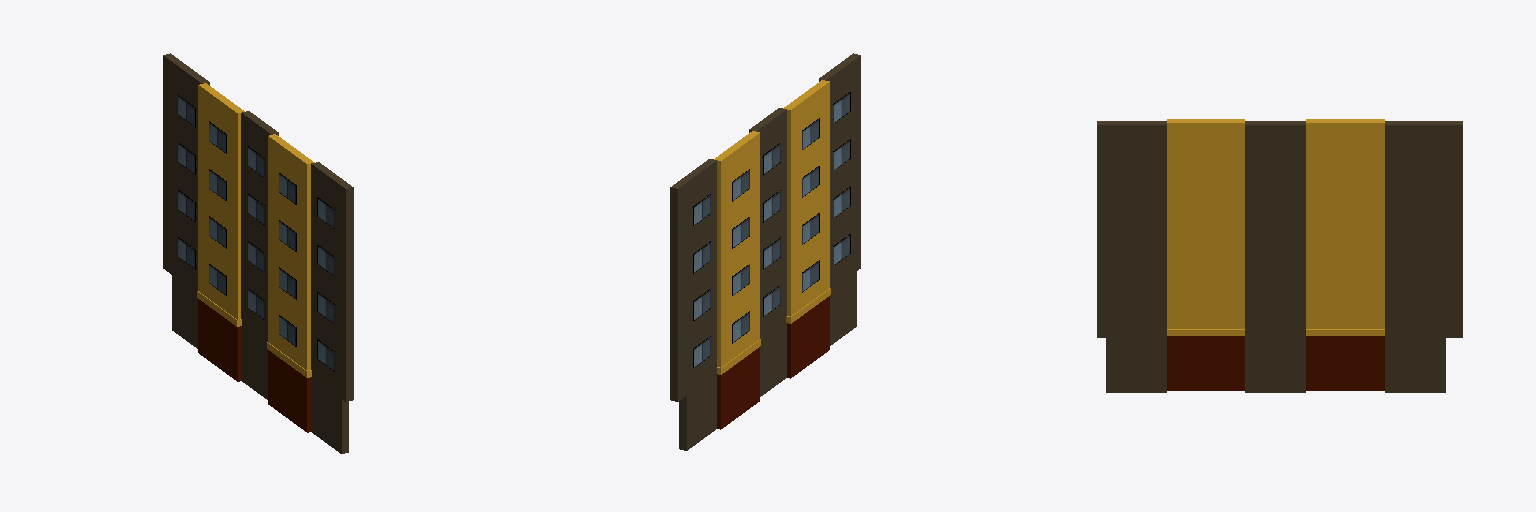
3 renders of one model, left to right at view 1: azimuth 30°, elevation 25°; view 2: azimuth 150°, elevation 25°; view 3: azimuth 270°, elevation 25°, orthographic.
Parts seen in each view (by area): view 1: Part10, Part19, Part40, Part52, Part31, Part11, Part32, Part1, Part22, Part43; view 2: Part52, Part19, Part40, Part10, Part31, Part32, Part11, Part43, Part1, Part22; view 3: Part52, Part40, Part19, Part10, Part31, Part32, Part11, Part1, Part22, Part43, Part33, Part12.
Part boxes in pixels (bbox=[...]): Part10: bbox=[311, 162, 353, 401]; Part19: bbox=[268, 134, 314, 370]; Part40: bbox=[198, 83, 244, 319]; Part52: bbox=[163, 53, 209, 292]; Part31: bbox=[241, 111, 278, 343]; Part11: bbox=[268, 350, 310, 432]; Part32: bbox=[198, 299, 240, 381]; Part1: bbox=[311, 377, 348, 453]; Part22: bbox=[241, 326, 267, 399]; Part43: bbox=[172, 275, 197, 348]; Part52: bbox=[670, 159, 716, 401]; Part19: bbox=[783, 80, 829, 316]; Part40: bbox=[714, 131, 759, 367]; Part10: bbox=[819, 53, 860, 289]; Part31: bbox=[749, 108, 786, 340]; Part32: bbox=[717, 347, 759, 429]; Part11: bbox=[787, 296, 829, 378]; Part43: bbox=[679, 374, 716, 450]; Part1: bbox=[830, 272, 856, 345]; Part22: bbox=[760, 323, 786, 396]; Part52: bbox=[1385, 121, 1462, 337]; Part40: bbox=[1306, 119, 1384, 328]; Part19: bbox=[1167, 119, 1244, 328]; Part10: bbox=[1097, 121, 1166, 337]; Part31: bbox=[1245, 121, 1305, 337]; Part32: bbox=[1306, 336, 1384, 390]; Part11: bbox=[1167, 336, 1244, 390]; Part1: bbox=[1106, 338, 1166, 392]; Part22: bbox=[1245, 338, 1305, 392]; Part43: bbox=[1385, 338, 1445, 392]; Part33: bbox=[1306, 329, 1384, 335]; Part12: bbox=[1167, 329, 1244, 335].
Size of the model in its own units: 3.2 by 68 by 84.
6 materials, 1 textured.